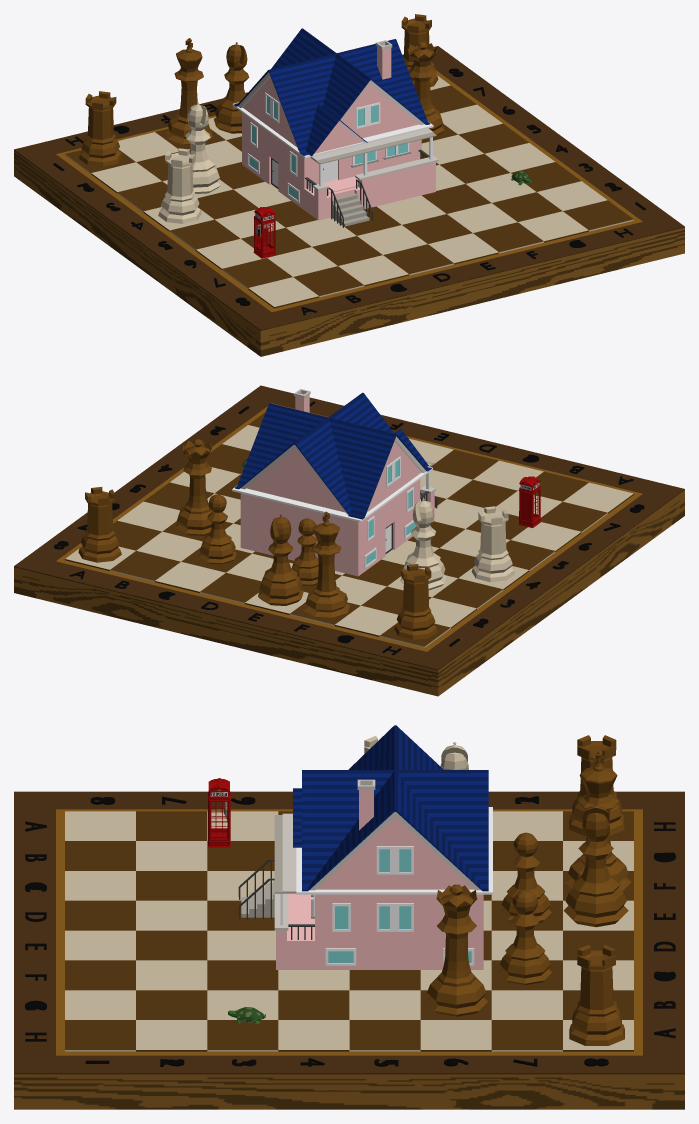
3 views of the same model, one above another, from view 1: azimuth 30°, elevation 25°; view 2: azimuth 150°, elevation 25°; view 3: azimuth 270°, elevation 25° (orthographic). The views are drawn at different scales.
Parts seen in each view (by area): view 1: Cube.002, Cube.313, OBJRANDOM_PHONEBOOTH; view 2: Cube.002, Cube.313, OBJRANDOM_PHONEBOOTH; view 3: Cube.002, Cube.313, OBJRANDOM_PHONEBOOTH.
Part boxes in pixels (x1,y1,x2,y2): Cube.002: (14, 14, 684, 356); Cube.313: (232, 28, 438, 227); OBJRANDOM_PHONEBOOTH: (253, 207, 275, 258); Cube.002: (14, 385, 684, 696); Cube.313: (232, 389, 437, 576); OBJRANDOM_PHONEBOOTH: (518, 476, 541, 527); Cube.002: (14, 735, 684, 1109); Cube.313: (238, 725, 492, 969); OBJRANDOM_PHONEBOOTH: (208, 778, 230, 847).
Size of the model in its own units: 3981 by 1636 by 4012.
37 materials, 2 textured.
